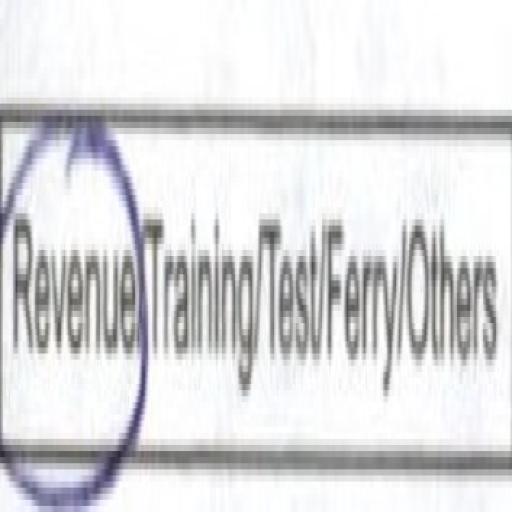check: (0, 12, 139, 512)
